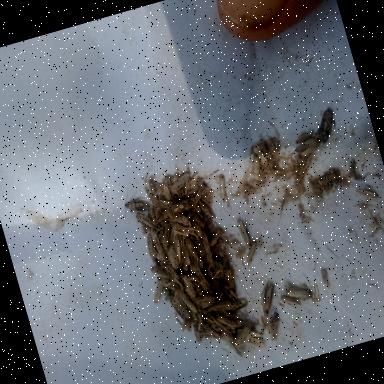pbw: (282, 274, 316, 306), (254, 278, 282, 316), (216, 276, 244, 312), (220, 326, 247, 362), (117, 188, 148, 218), (237, 324, 267, 354), (172, 284, 196, 320), (187, 311, 210, 344), (202, 307, 228, 335), (294, 134, 324, 158), (148, 226, 168, 262), (185, 236, 205, 270), (190, 260, 210, 294), (230, 324, 256, 350), (148, 259, 173, 286), (132, 206, 156, 234), (198, 228, 216, 264), (190, 290, 218, 313), (234, 214, 252, 249), (168, 293, 188, 324), (166, 172, 192, 195), (144, 232, 162, 264), (354, 180, 380, 202), (247, 152, 266, 181), (148, 276, 168, 303), (214, 172, 232, 202), (242, 238, 262, 264), (189, 230, 206, 260), (169, 214, 189, 238), (292, 128, 316, 148), (208, 296, 234, 314), (164, 262, 182, 288), (266, 315, 284, 341), (164, 241, 181, 268), (157, 223, 174, 250), (176, 244, 193, 270), (206, 224, 226, 246), (198, 196, 216, 220), (180, 270, 198, 294), (252, 140, 268, 166), (184, 174, 203, 195), (217, 310, 235, 332), (279, 292, 301, 310), (258, 138, 274, 162), (192, 180, 210, 201), (204, 323, 222, 344), (164, 222, 179, 247), (160, 181, 176, 204), (153, 194, 173, 212), (228, 298, 250, 314), (168, 198, 190, 214), (192, 200, 206, 225), (145, 203, 159, 227), (143, 180, 158, 202), (190, 216, 204, 238), (224, 265, 237, 288), (154, 178, 168, 199), (155, 210, 173, 225), (211, 259, 227, 275), (161, 172, 179, 186), (212, 244, 226, 261), (184, 201, 196, 220), (182, 190, 198, 204), (220, 249, 233, 266), (212, 278, 224, 296), (176, 233, 192, 246), (206, 272, 216, 290), (163, 280, 173, 296), (204, 258, 214, 274), (174, 192, 187, 202)
